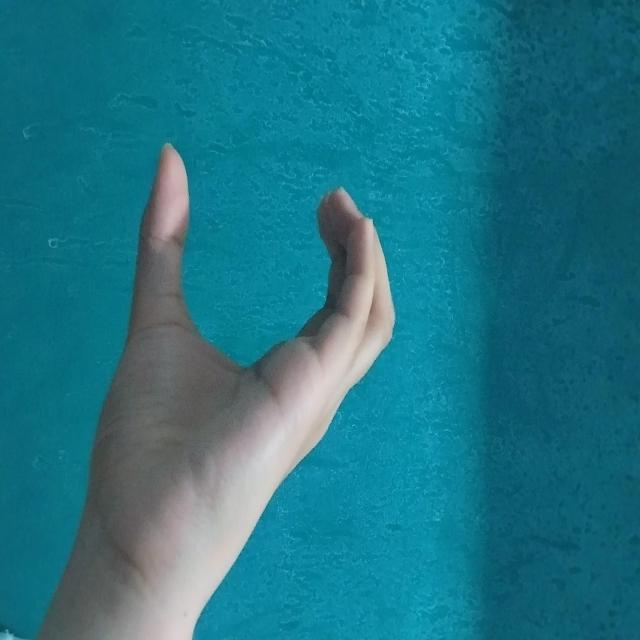C: (142, 242, 546, 553)
